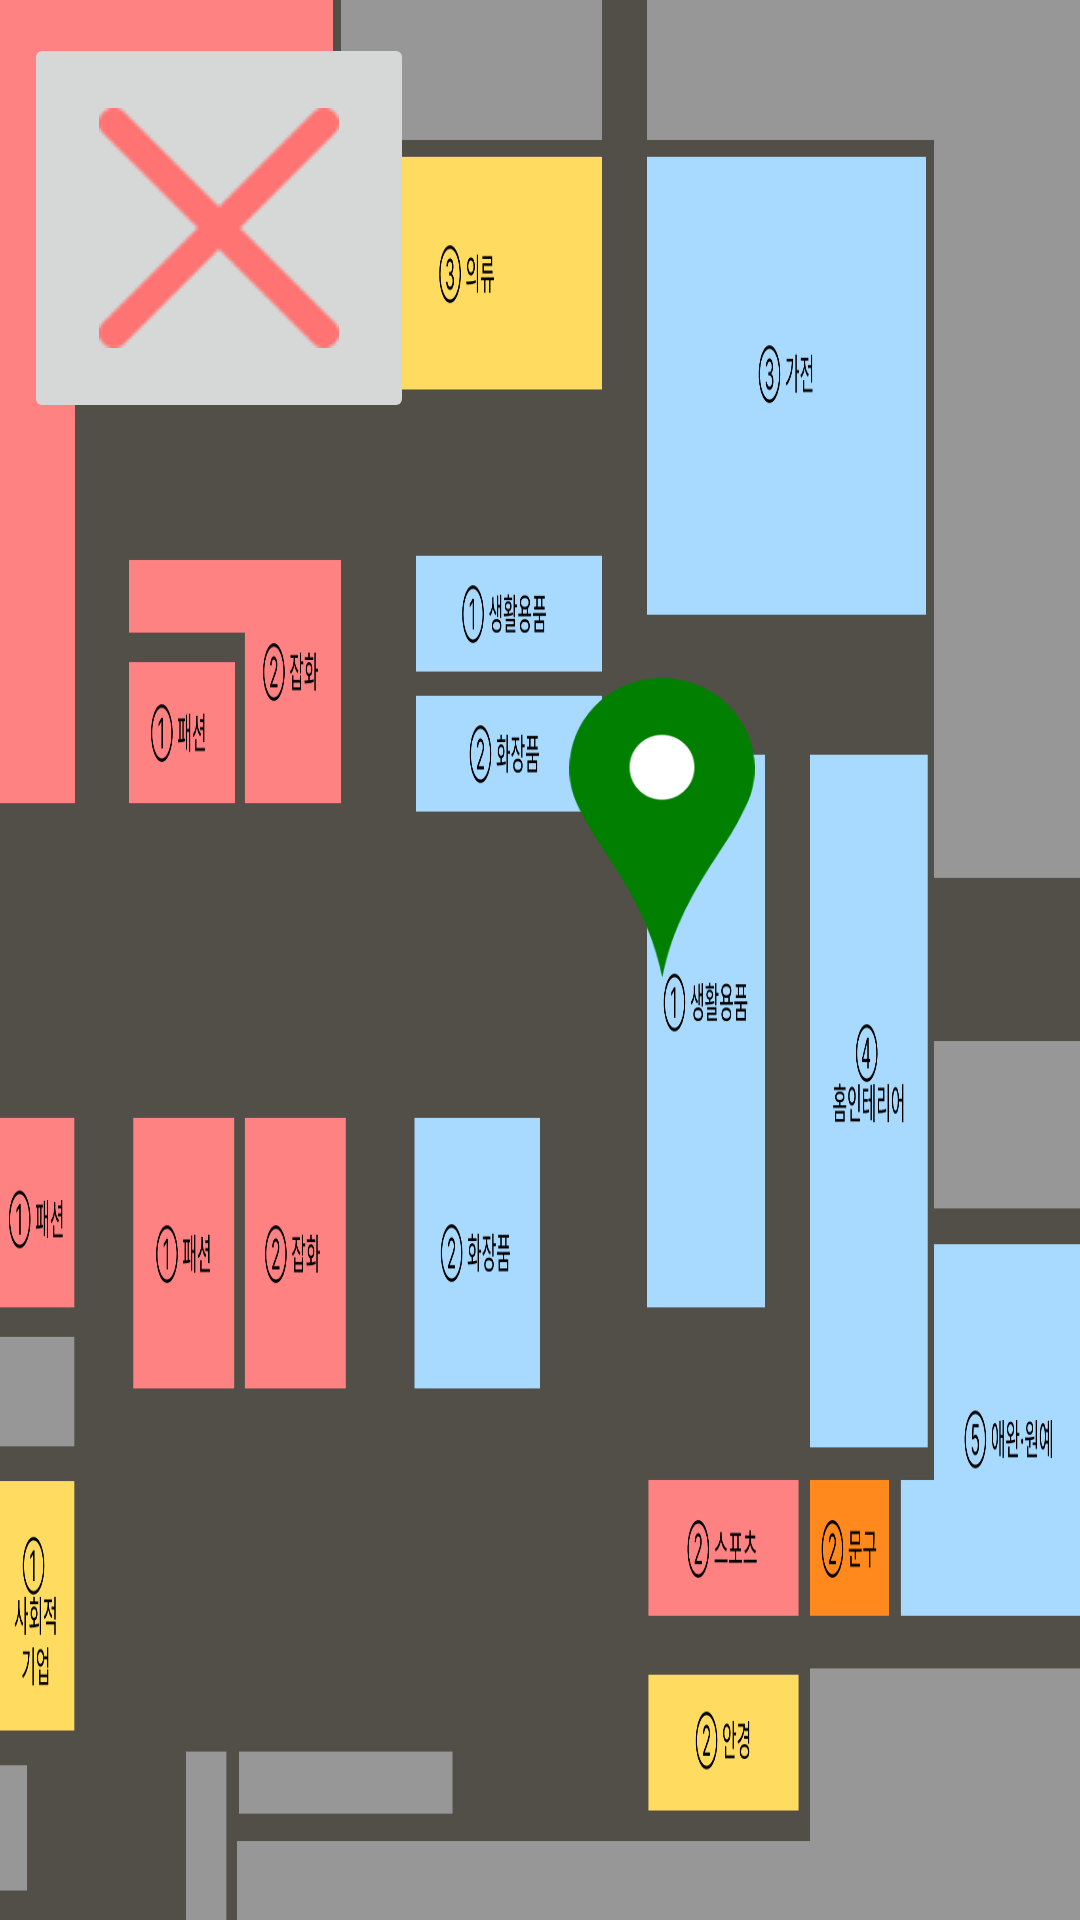

Icons on this 1080px x 1920px Android screen, each with its box as (x1, y1, x2, y2):
wanttogoloc: (542, 678, 765, 978)
